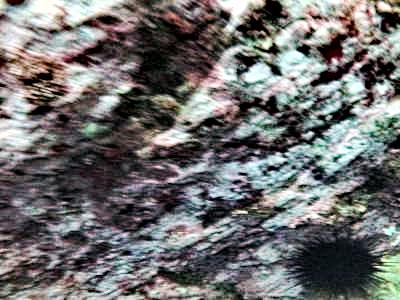urchin: (282, 228, 385, 293)
